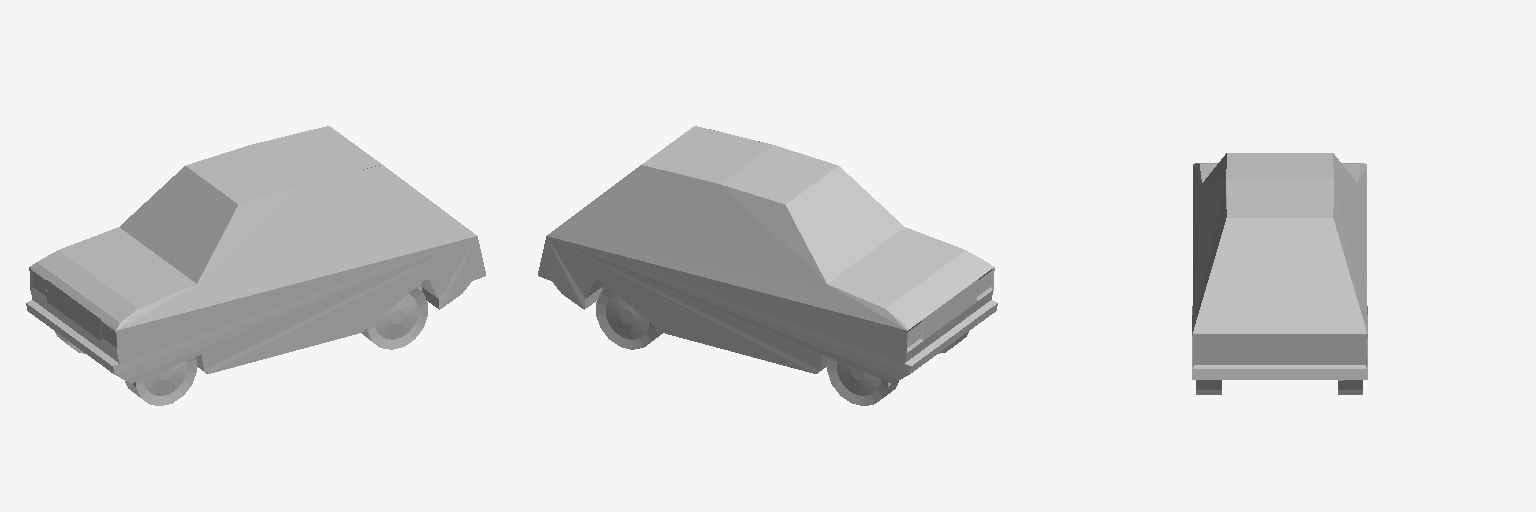
File: tony.obj
3 renders of one model, left to right at view 1: azimuth 30°, elevation 25°; view 2: azimuth 150°, elevation 25°; view 3: azimuth 270°, elevation 25°, orthographic.
Parts seen in each view (by area): view 1: Cube; view 2: Cube; view 3: Cube.
Part boxes in pixels (left/top/right/bottom): Cube: left=26, top=126, right=485, bottom=405; Cube: left=538, top=126, right=997, bottom=405; Cube: left=1192, top=153, right=1367, bottom=394.
Size of the model in its own units: 4.47 by 1.98 by 1.83.